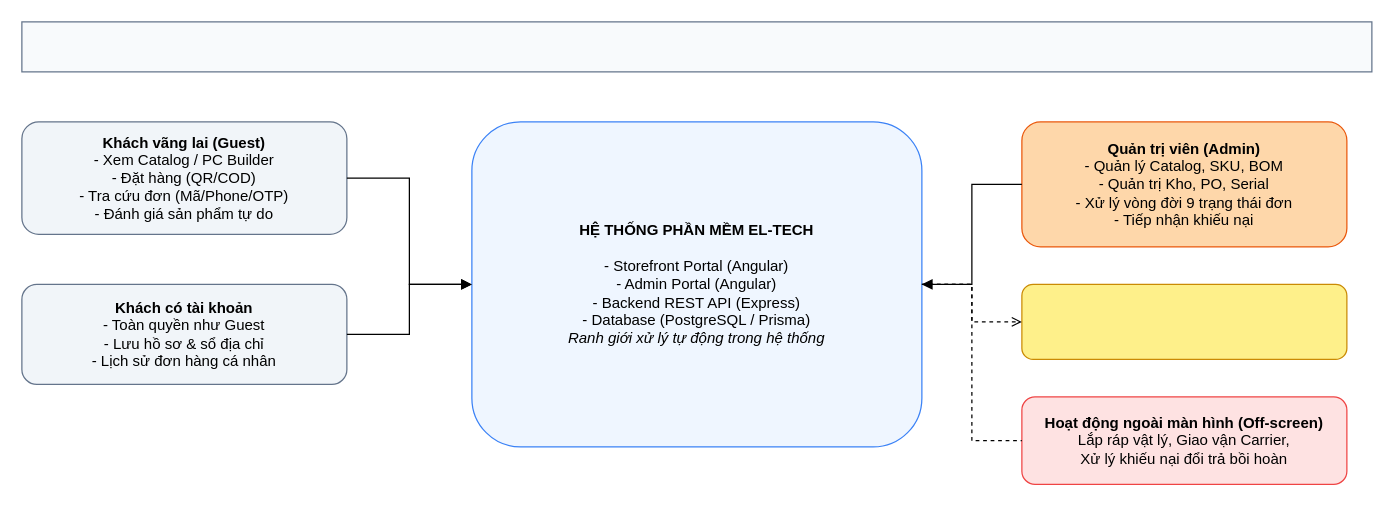
The diagram is 1394 pixels wide and 506 high, and some of its shapes have lost their labels. Here are the shapes that lost their labels. From the top down, the centre of each, then its label:
(x=696, y=46): SƠ ĐỒ BỐI CẢNH TÁC NHÂN VÀ RANH GIỚI HỆ THỐNG EL-TECH
(x=1184, y=321): Dịch vụ OTP (SMS/Email) Xác thực tra cứu đơn vãng lai
